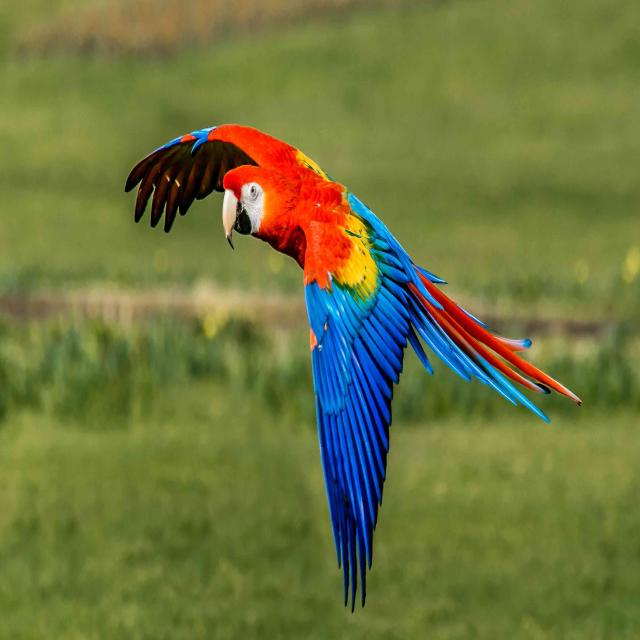Parrot: (122, 122, 584, 597)
